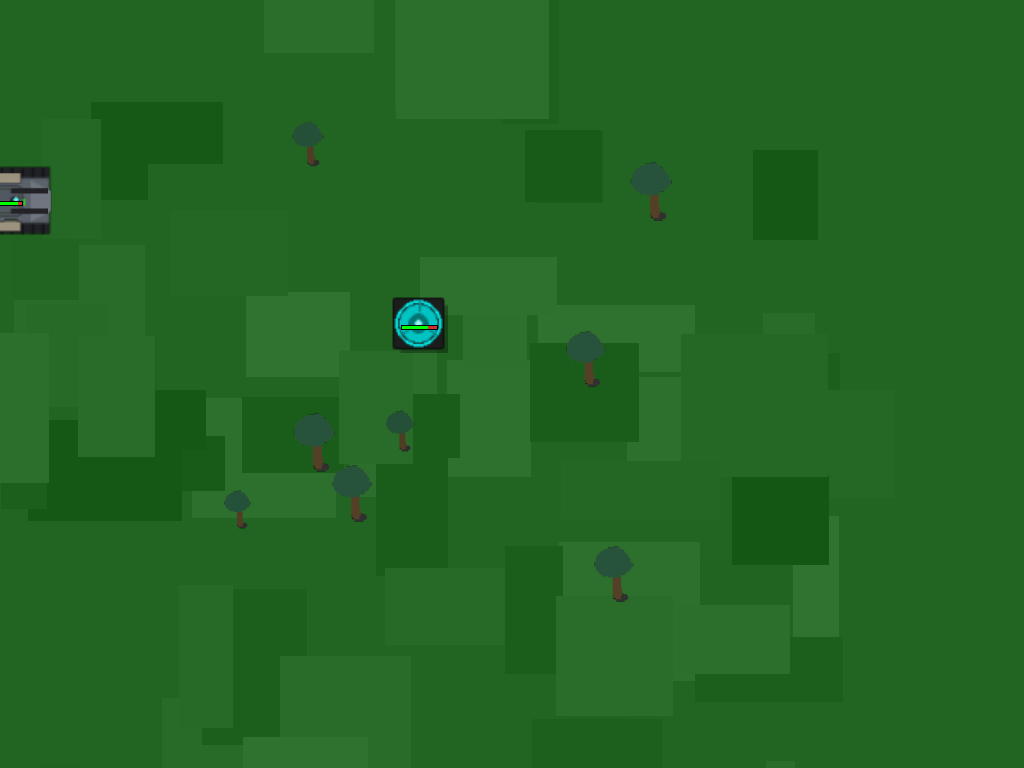APC_rus: (0, 162, 75, 237)
LaserTurret: (381, 287, 456, 362)
